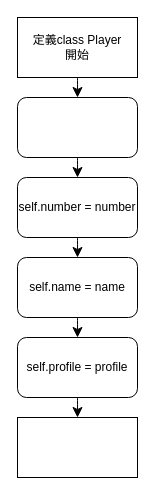
Image size: 155x495. Some labels were removed from this diagram. Each missing label, with the centre of its shape:
"def __init__(self, number, name, profile)" belongs at (77,127).
"終了" belongs at (77,447).
